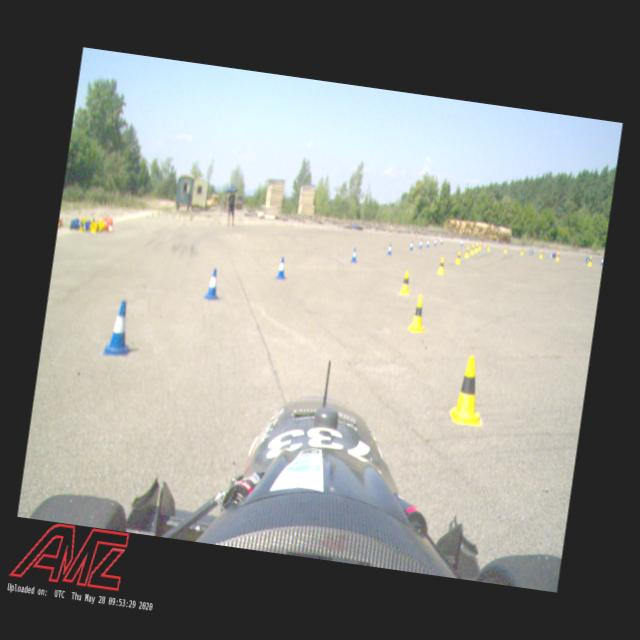blue_cone: (102, 298, 136, 358), (204, 268, 222, 302), (275, 256, 288, 280), (350, 246, 359, 264), (386, 243, 394, 256), (418, 238, 424, 250), (409, 240, 415, 251), (426, 238, 431, 248), (433, 238, 438, 246), (439, 237, 444, 244), (460, 238, 464, 246), (600, 257, 604, 265)
yellow_cone: (448, 353, 492, 428), (406, 294, 432, 334), (399, 270, 413, 296), (436, 256, 446, 276), (454, 250, 462, 264), (464, 246, 470, 259), (470, 243, 476, 254), (474, 242, 480, 252), (588, 256, 593, 266), (539, 249, 544, 258), (488, 242, 492, 252), (556, 252, 560, 262), (520, 247, 524, 256), (503, 245, 508, 252), (478, 242, 482, 250)
